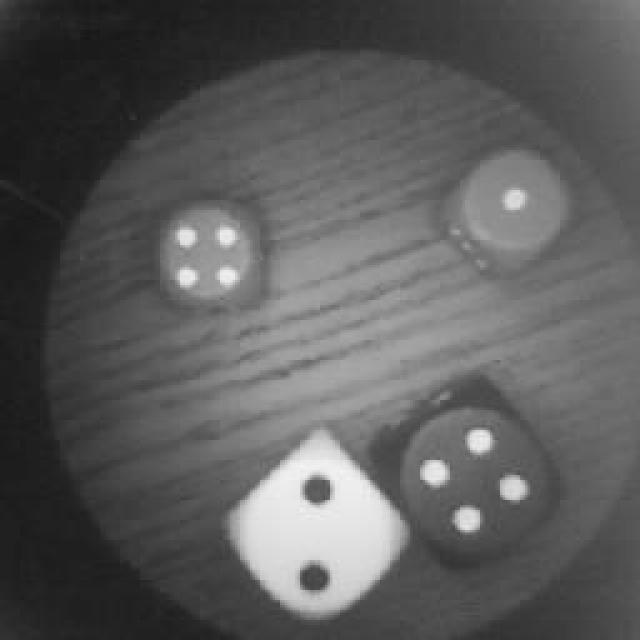dice_1: (445, 140, 573, 270)
dice_2: (232, 432, 412, 618)
dice_4: (388, 380, 560, 562), (152, 197, 268, 315)
